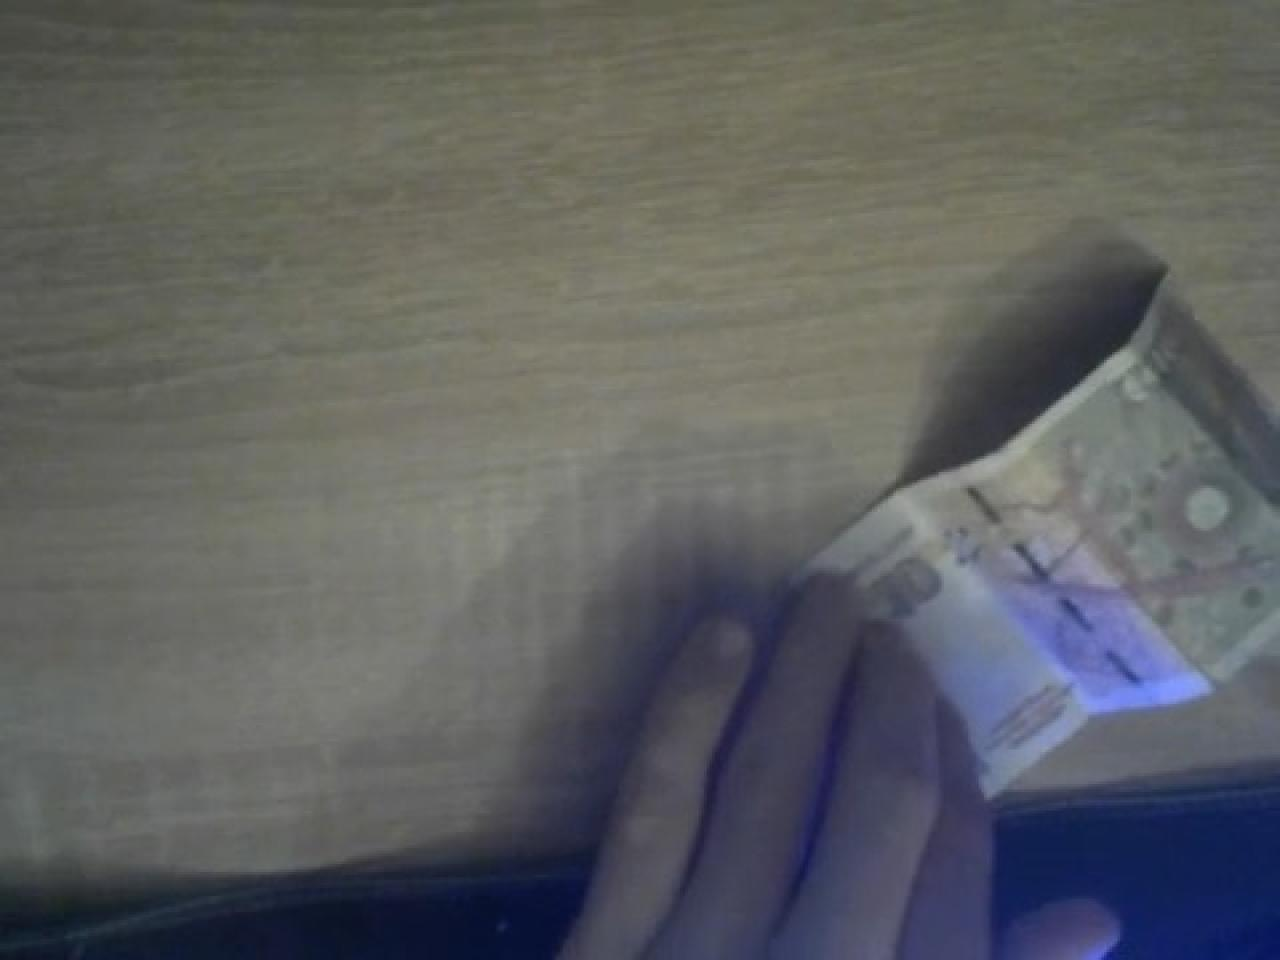10leva: (794, 274, 1280, 798)
